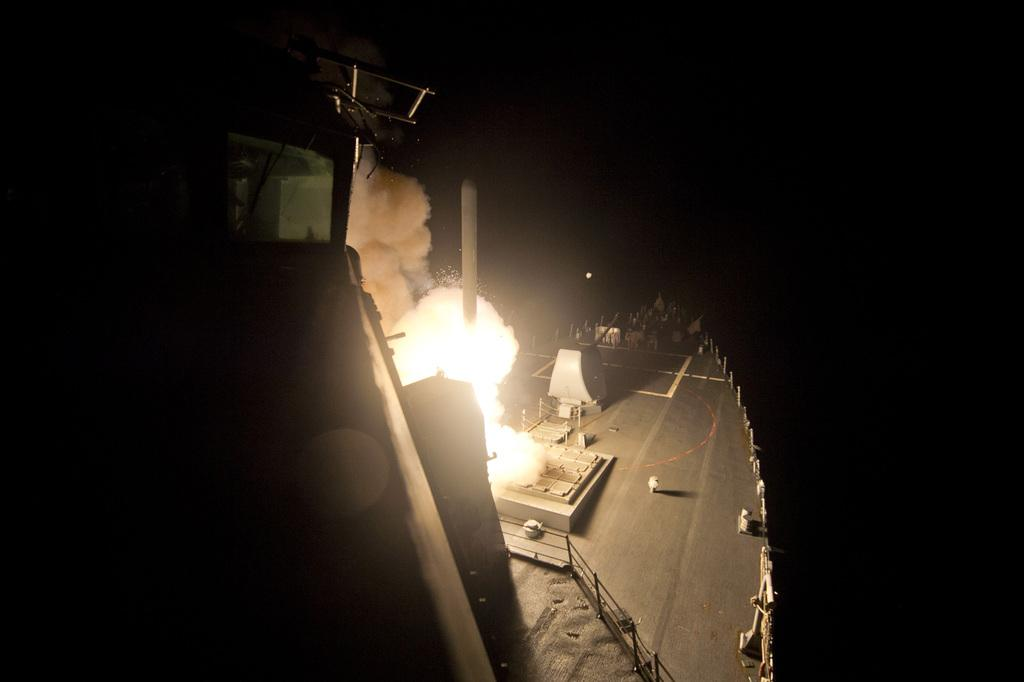Missile: (458, 175, 483, 337)
